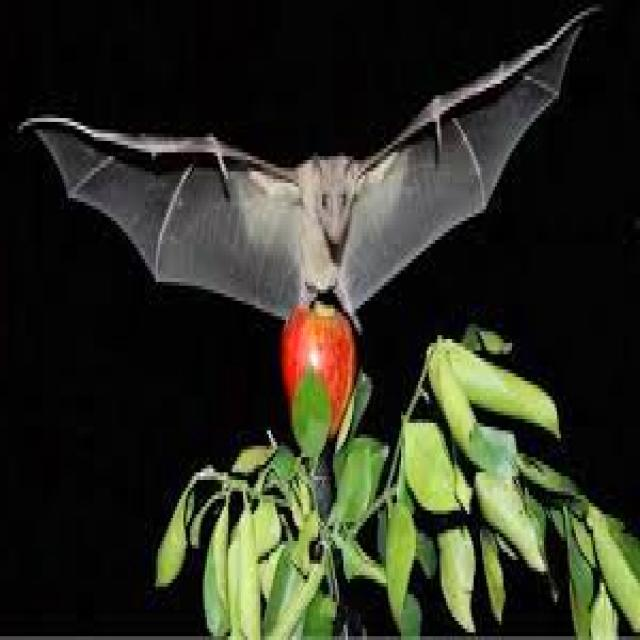bat: (21, 4, 602, 328)
